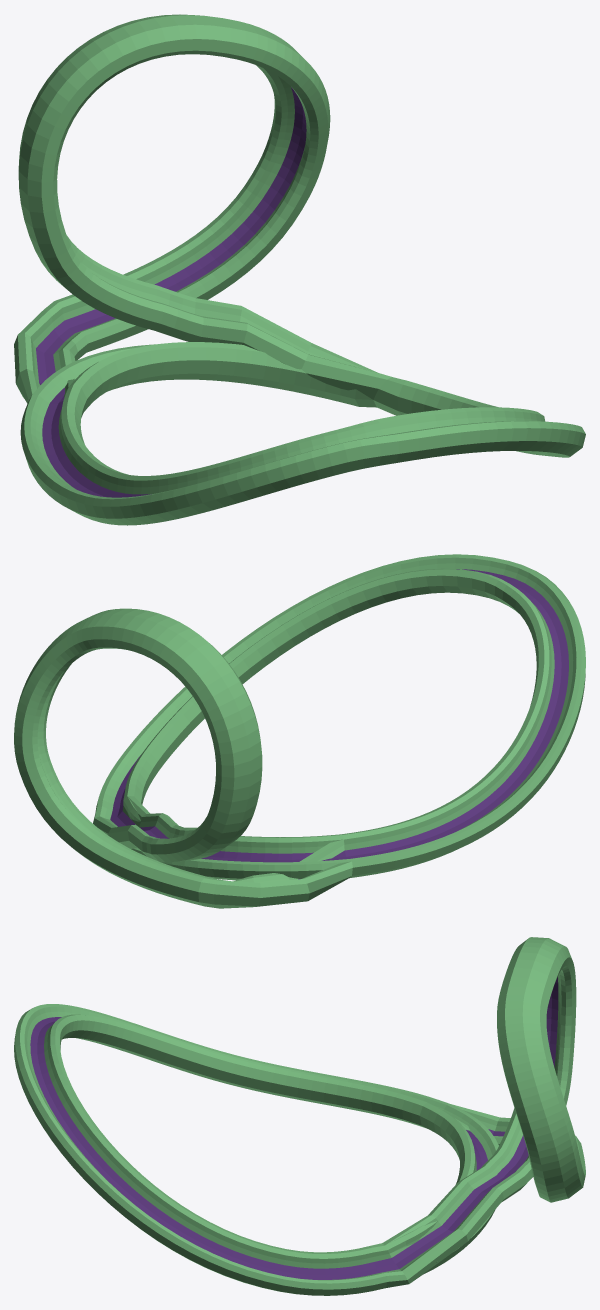
Rendered from level4_with_upgrade1.fbx.
The picture shows the model from 3 angles, top to bottom: view 1: azimuth 30°, elevation 25°; view 2: azimuth 150°, elevation 25°; view 3: azimuth 270°, elevation 25°; orthographic projection. The views are drawn at different scales.
Parts seen in each view (by area): view 1: level4upgrade1, level4.001, level4.degradacija; view 2: level4.001, level4upgrade1, level4.degradacija; view 3: level4.001, level4upgrade1, level4.degradacija.
Part boxes in pixels (x1=…): level4upgrade1: x1=14, y1=14, x2=391, y2=403; level4.001: x1=20, y1=377, x2=585, y2=525; level4.degradacija: x1=32, y1=342, x2=384, y2=412; level4.001: x1=93, y1=554, x2=585, y2=878; level4upgrade1: x1=14, y1=608, x2=352, y2=908; level4.degradacija: x1=123, y1=796, x2=351, y2=880; level4.001: x1=14, y1=1004, x2=449, y2=1295; level4upgrade1: x1=382, y1=937, x2=585, y2=1283; level4.degradacija: x1=385, y1=1102, x2=498, y2=1280.
Bounding box in the file's own units: 691 × 503 × 927.
